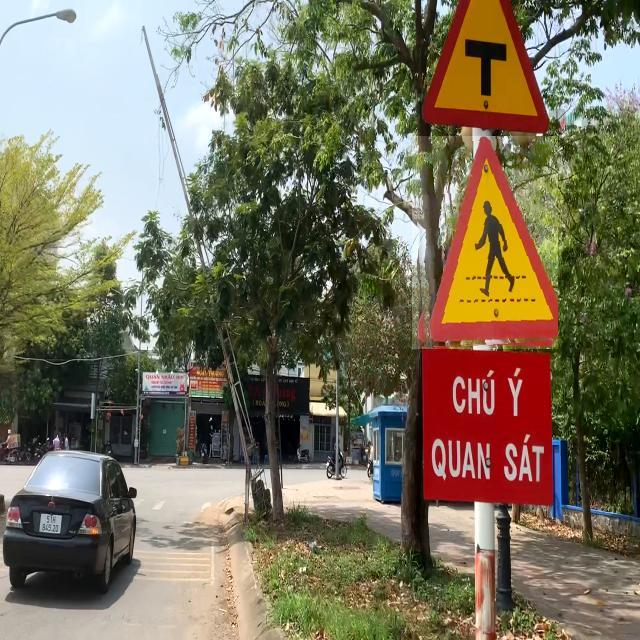W-224: (412, 136, 558, 349)
